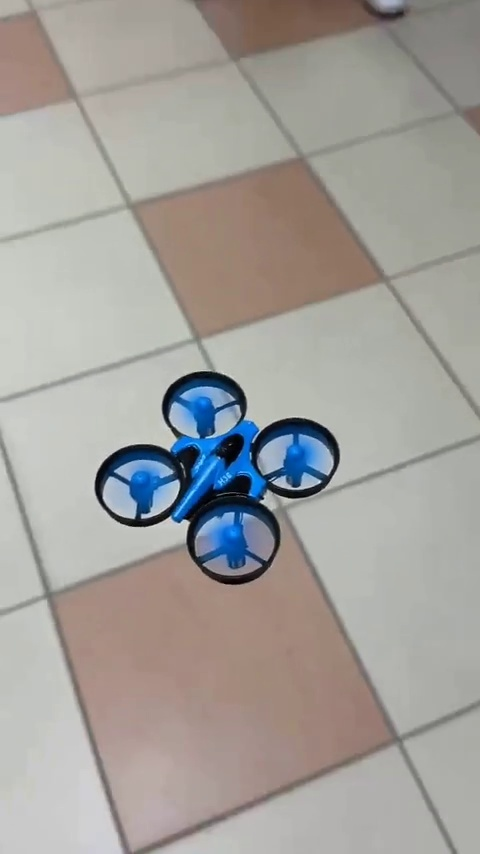drone: (98, 375, 343, 590)
